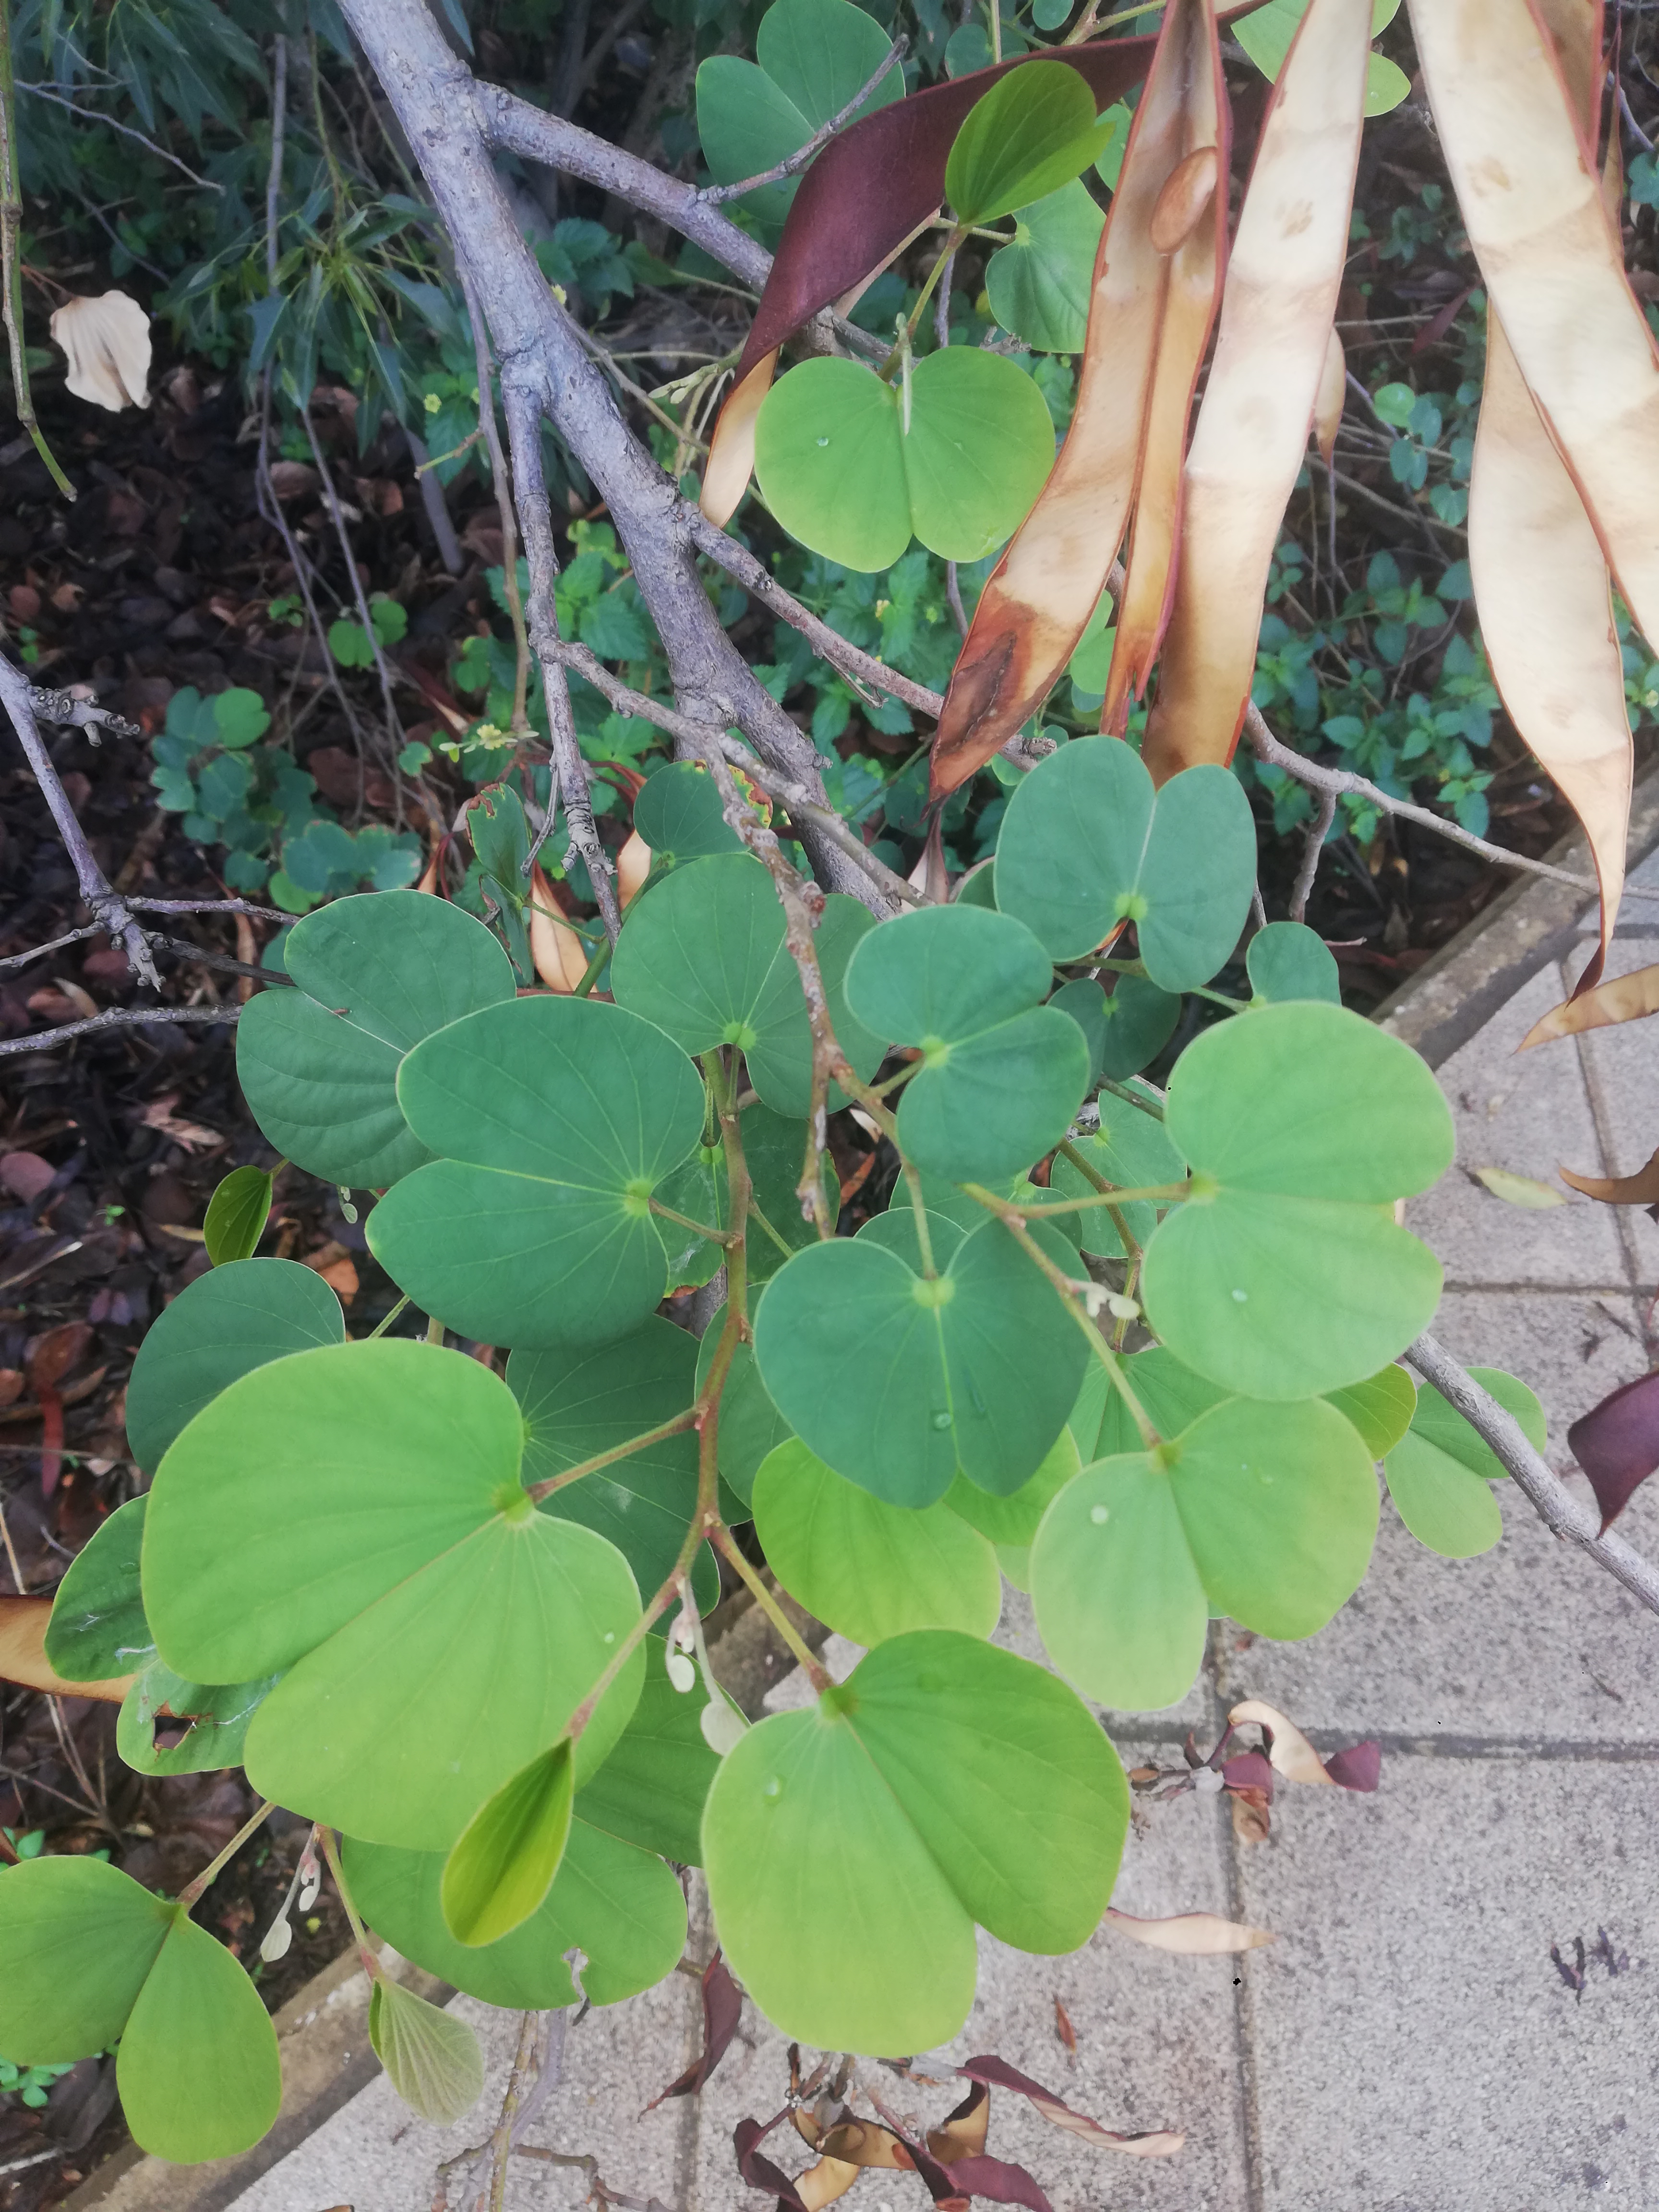healthy: (94, 1320, 655, 1824), (687, 1578, 1202, 2041), (1127, 984, 1476, 1399), (720, 1181, 1101, 1524), (362, 991, 711, 1334), (1051, 1372, 1389, 1716), (704, 317, 1124, 573), (993, 711, 1302, 991), (850, 885, 1112, 1190)
